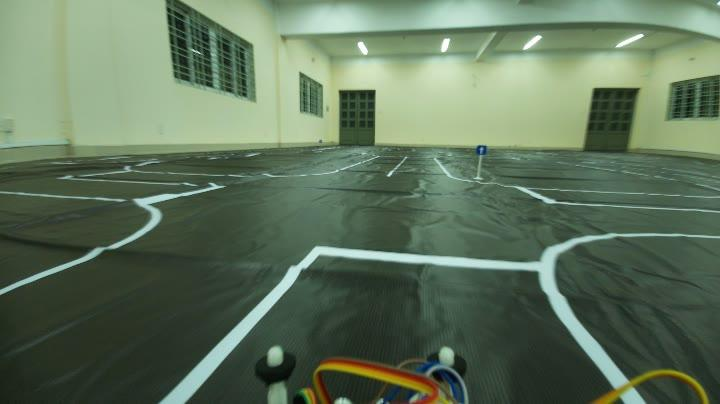onewayroad: (470, 140, 488, 158)
